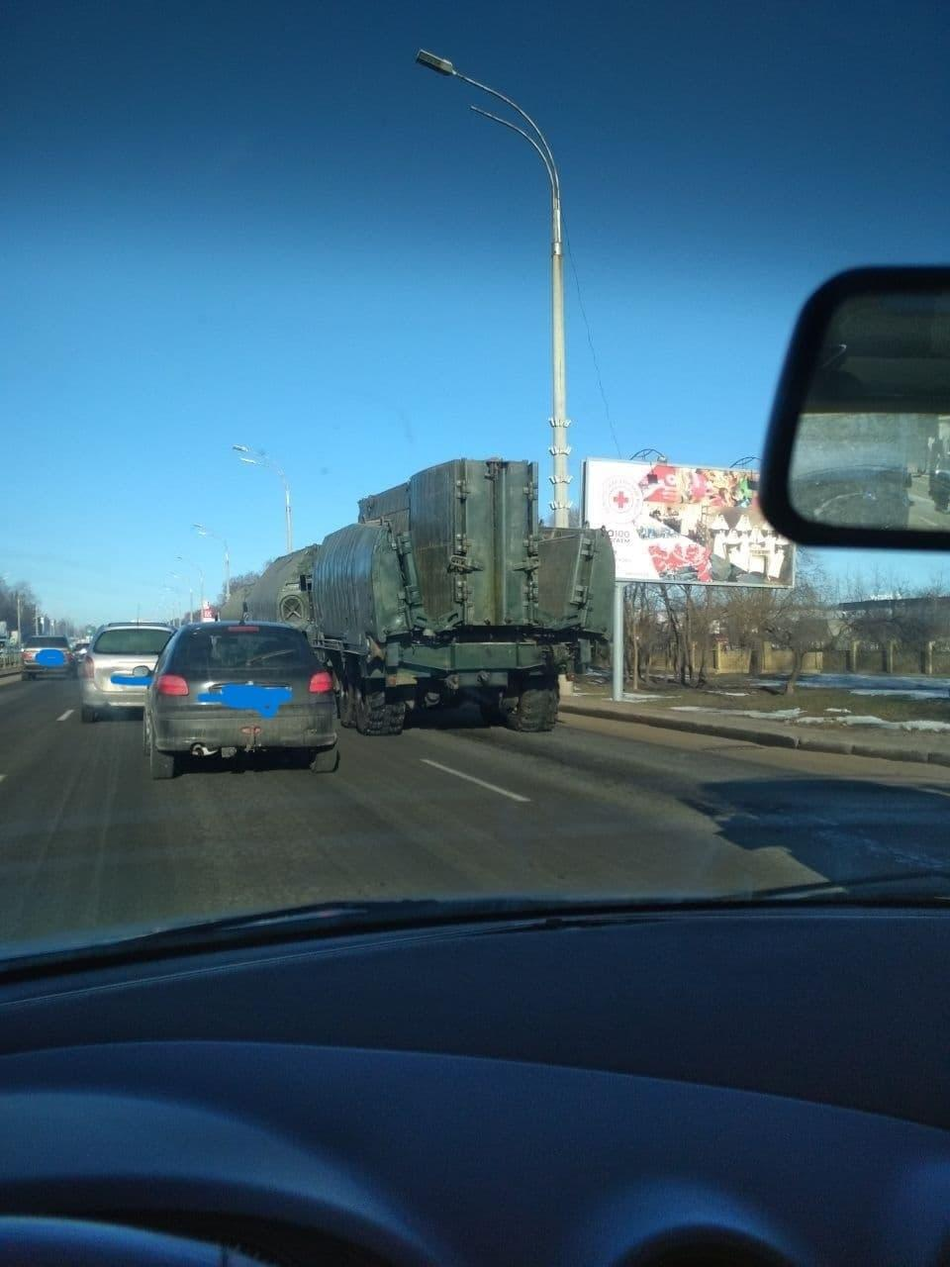car: (157, 626, 339, 775), (85, 621, 195, 718), (23, 621, 80, 685)
truck: (307, 447, 618, 768)
